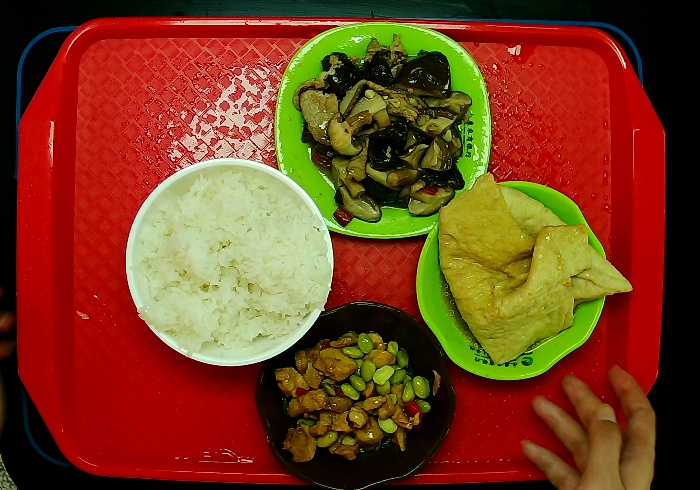YKMZ-Fan_Wan: (123, 153, 340, 376)
YKMZ-Ka_Fei_Ao_Bian_Wan: (252, 296, 464, 490)
YKMZ-Lv_Se_Ao_Bian_Wan: (408, 174, 621, 387)
YKMZ-Lv_Se_Fang_Die: (269, 20, 498, 244)
